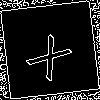X: (25, 25, 81, 82)
